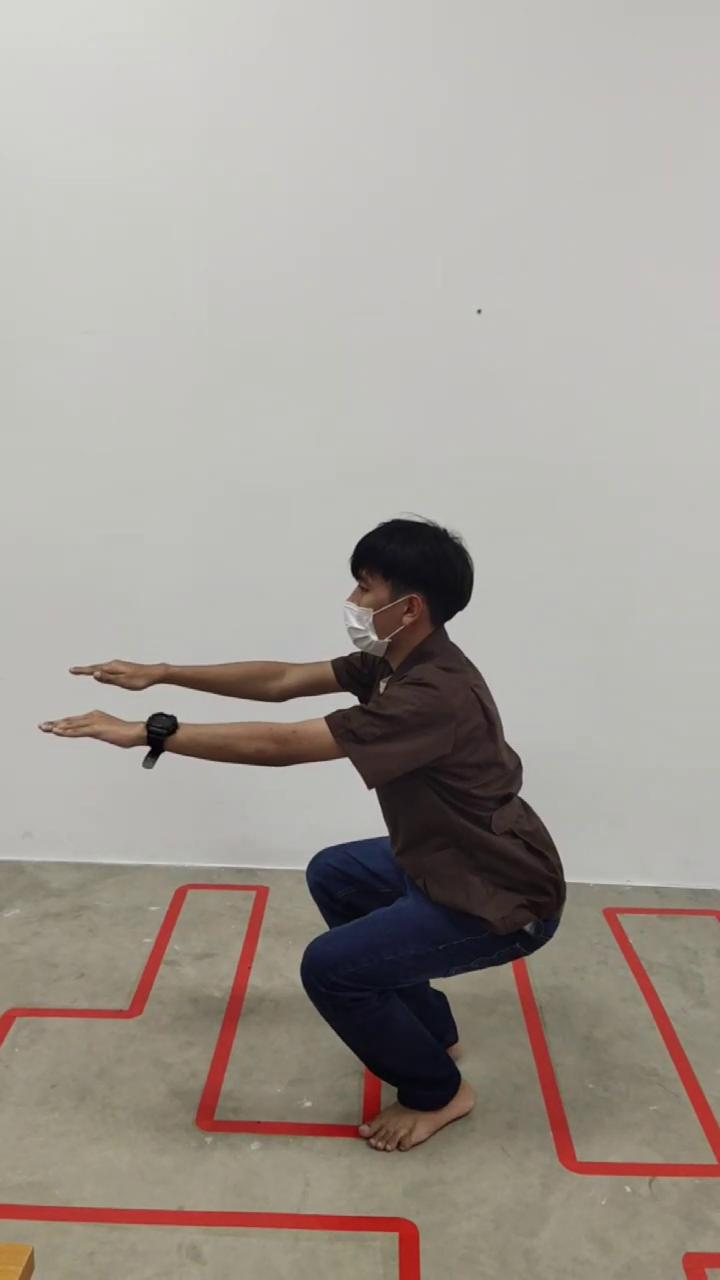squat down: (50, 518, 567, 1152)
